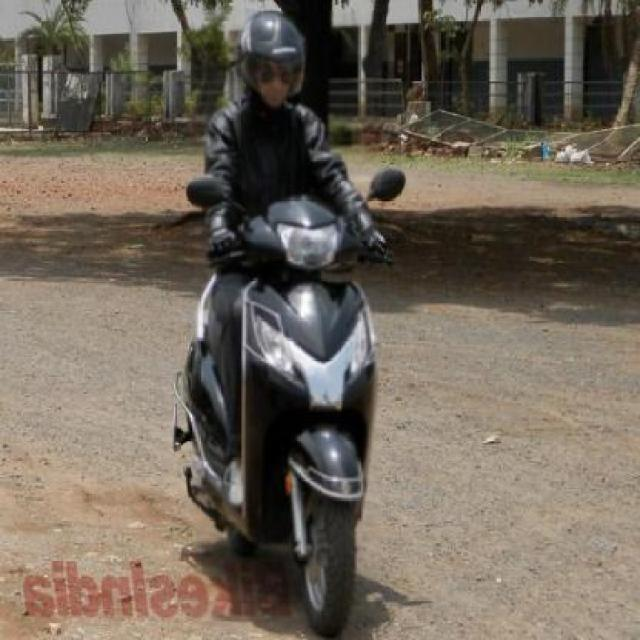helmet: (220, 7, 318, 128)
motorcycle: (132, 0, 433, 640)
